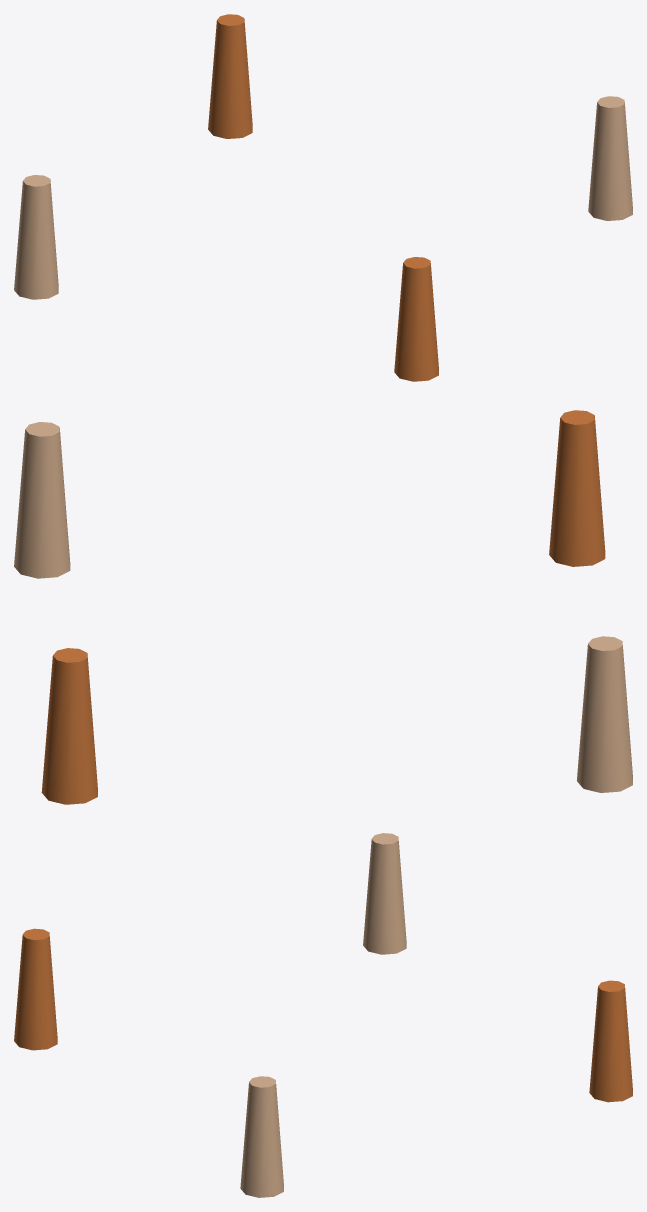
File: boundary.glb
3 views of the same model, one above another, from view 1: azimuth 30°, elevation 25°; view 2: azimuth 150°, elevation 25°; view 3: azimuth 270°, elevation 25° (orthographic). The views are drawn at different scales.
Parts seen in each view (by area): view 1: boundary_2, boundary_1, boundary_3, boundary_0; view 2: boundary_0, boundary_3, boundary_1, boundary_2; view 3: boundary_2, boundary_1, boundary_3, boundary_0.
Boxes of the visible parts, bbox=[...] form: boundary_2: bbox=[14, 175, 58, 299]; boundary_1: bbox=[394, 257, 438, 381]; boundary_3: bbox=[208, 14, 252, 138]; boundary_0: bbox=[588, 96, 632, 220]; boundary_0: bbox=[14, 422, 70, 578]; boundary_3: bbox=[41, 648, 97, 804]; boundary_1: bbox=[549, 410, 605, 566]; boundary_2: bbox=[577, 636, 632, 792]; boundary_2: bbox=[363, 833, 406, 954]; boundary_1: bbox=[14, 928, 57, 1050]; boundary_3: bbox=[589, 980, 632, 1102]; boundary_0: bbox=[240, 1076, 283, 1197].
Size of what is drawn, in the model's own units: 17.91 by 3.4 by 17.89.
